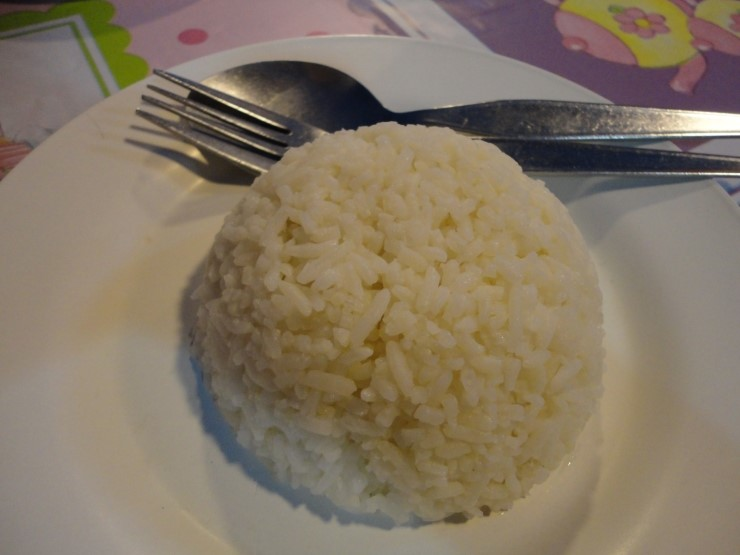plain rice: (201, 142, 606, 516)
